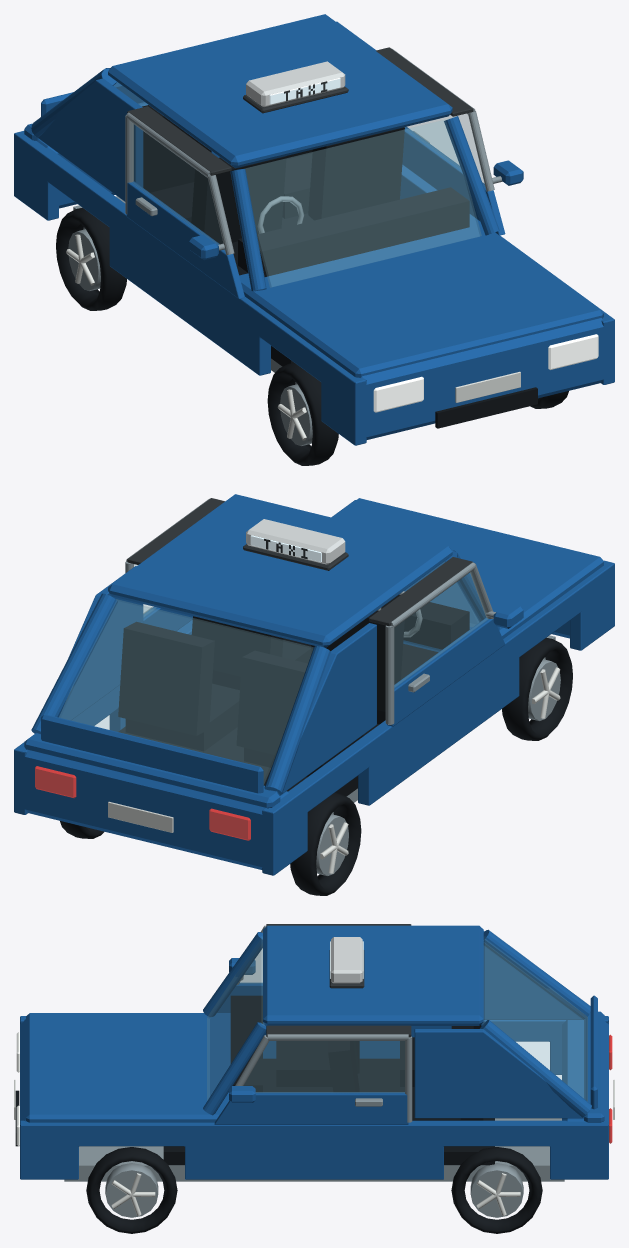
The model's file is sg-taxi-hd.glb.
3 renders of one model, top to bottom at view 1: azimuth 30°, elevation 25°; view 2: azimuth 150°, elevation 25°; view 3: azimuth 270°, elevation 25°, orthographic. The views are drawn at different scales.
Parts seen in each view (by area): view 1: body, wheel_FL, wheel_RL; view 2: body, wheel_RL, wheel_FL; view 3: body, wheel_FR, wheel_RR.
Boxes of the visible parts, x1,y1,x2,y2 form: body: (14,14,614,445); wheel_FL: (267,362,338,465); wheel_RL: (56,207,126,310); body: (14,494,614,875); wheel_RL: (290,792,361,895); wheel_FL: (502,637,572,740); body: (14,924,614,1181); wheel_FR: (86,1147,177,1233); wheel_RR: (451,1147,542,1233).
Bounding box in the file's own units: 2.18 × 1.72 × 4.08.
